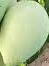Unripe: (1, 0, 49, 66)
